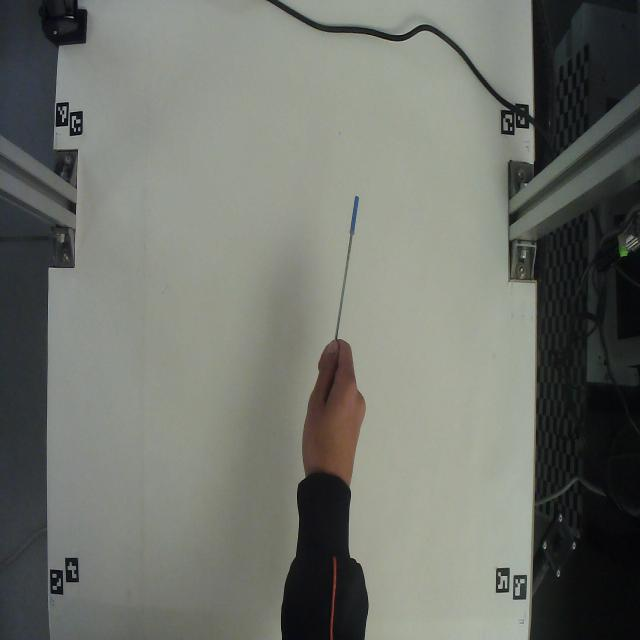NoPres: (323, 162, 379, 346)
